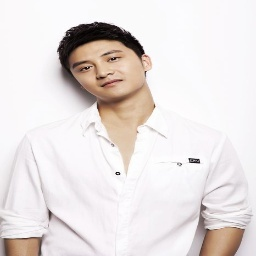noWear: (66, 43, 152, 102)
